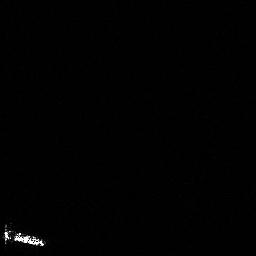ship: (1, 220, 48, 248)
